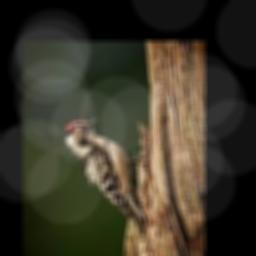Woodpecker: (63, 117, 144, 233)
